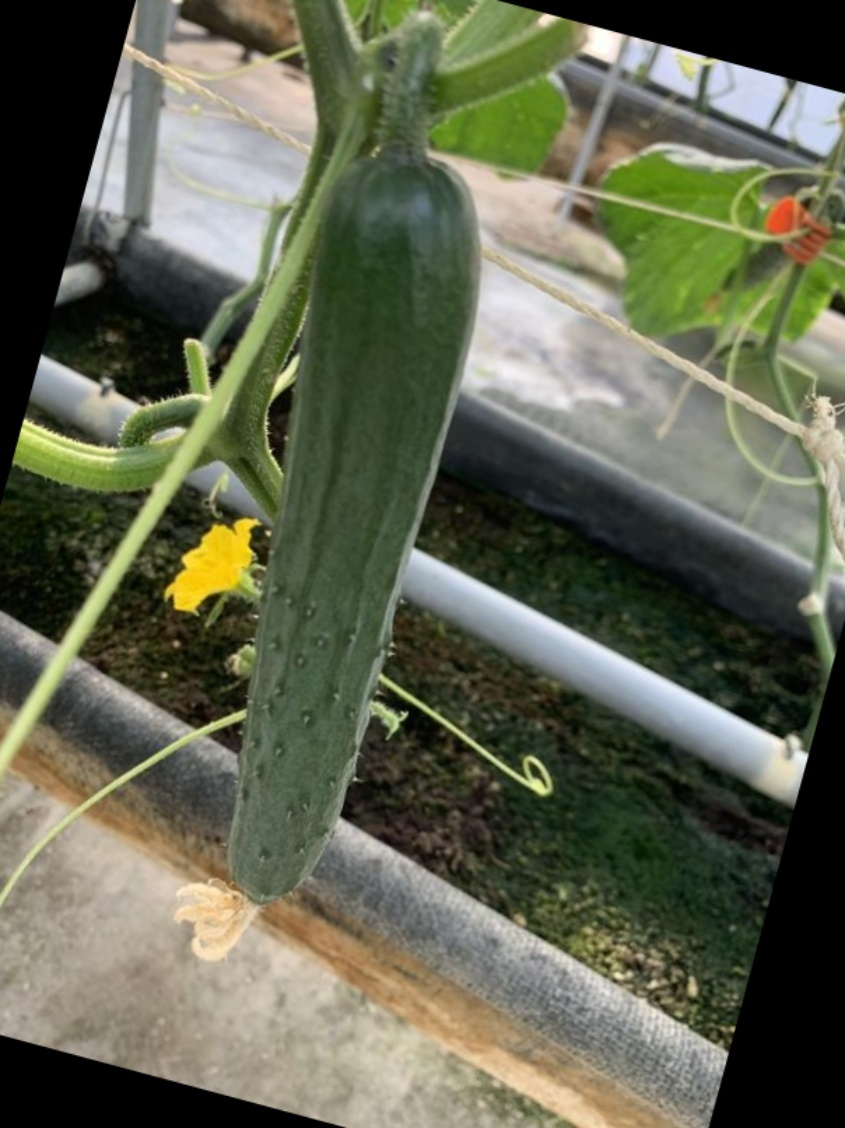mature: (194, 198, 498, 900)
